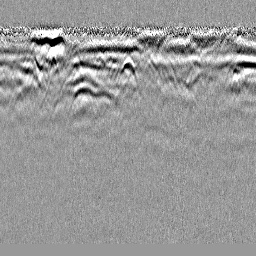cavity: (116, 56, 139, 85)
